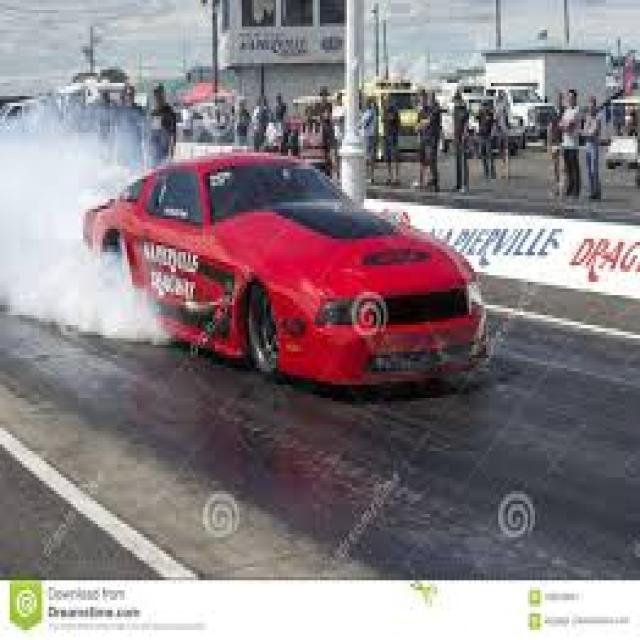Smoke: (0, 97, 173, 344)
